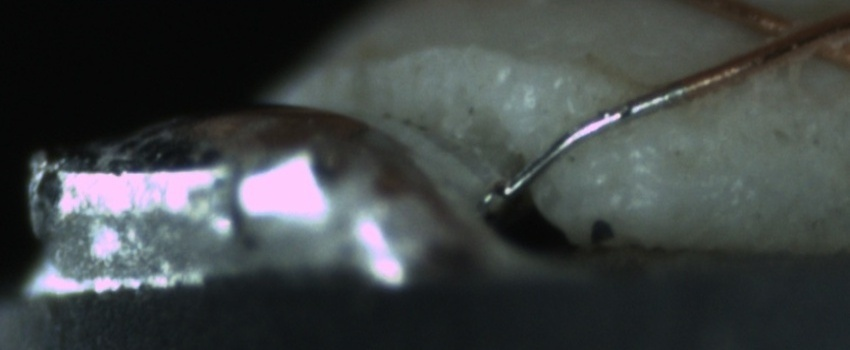CL: (748, 2, 843, 65)
TS: (489, 78, 682, 201)
TTCW: (491, 62, 731, 198)
